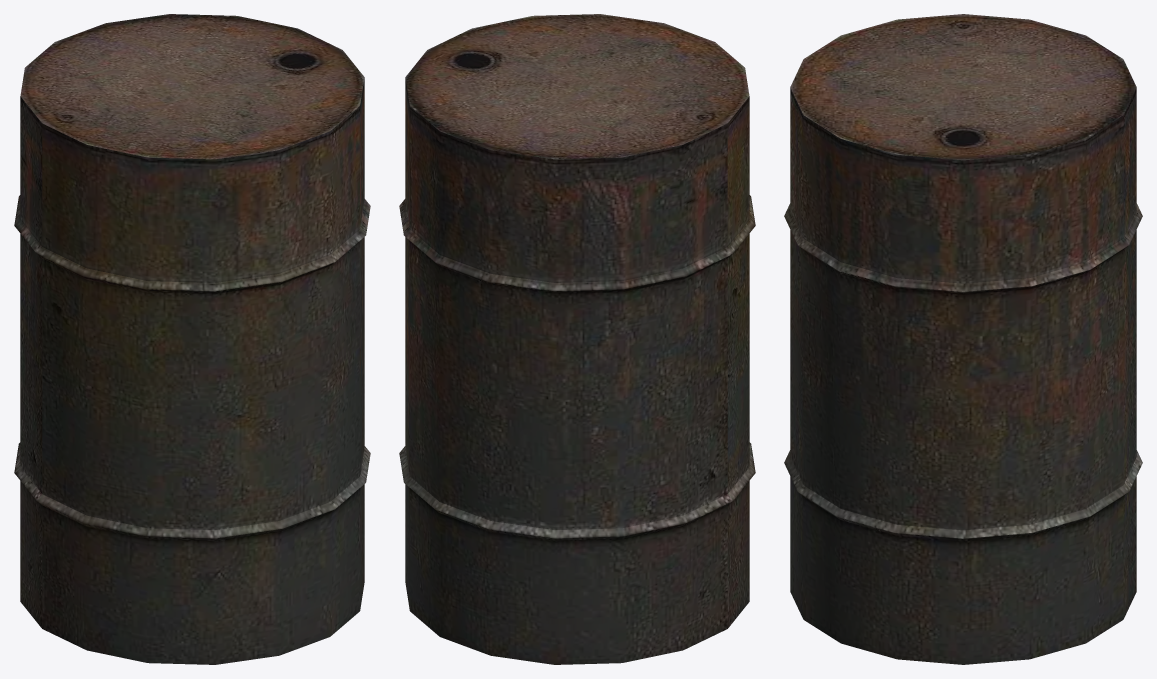
The model's file is oildrum001.glb.
3 views of the same model, side by side, from view 1: azimuth 30°, elevation 25°; view 2: azimuth 150°, elevation 25°; view 3: azimuth 270°, elevation 25° (orthographic).
Parts seen in each view (by area): view 1: 0_Oil_Drum001a; view 2: 0_Oil_Drum001a; view 3: 0_Oil_Drum001a.
Part boxes in pixels (left/top/right/bottom): 0_Oil_Drum001a: left=14, top=14, right=370, bottom=664; 0_Oil_Drum001a: left=399, top=14, right=755, bottom=664; 0_Oil_Drum001a: left=784, top=14, right=1142, bottom=664.
Size of the model in its own units: 0.7366 by 1.14 by 0.7366.
Materials: 1 (1 with a texture image).
